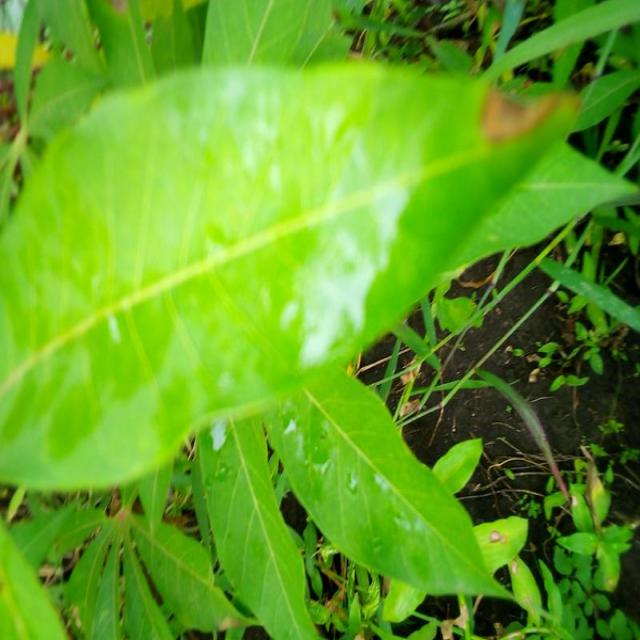cassava leaf: (1, 54, 634, 495), (265, 362, 520, 602)
